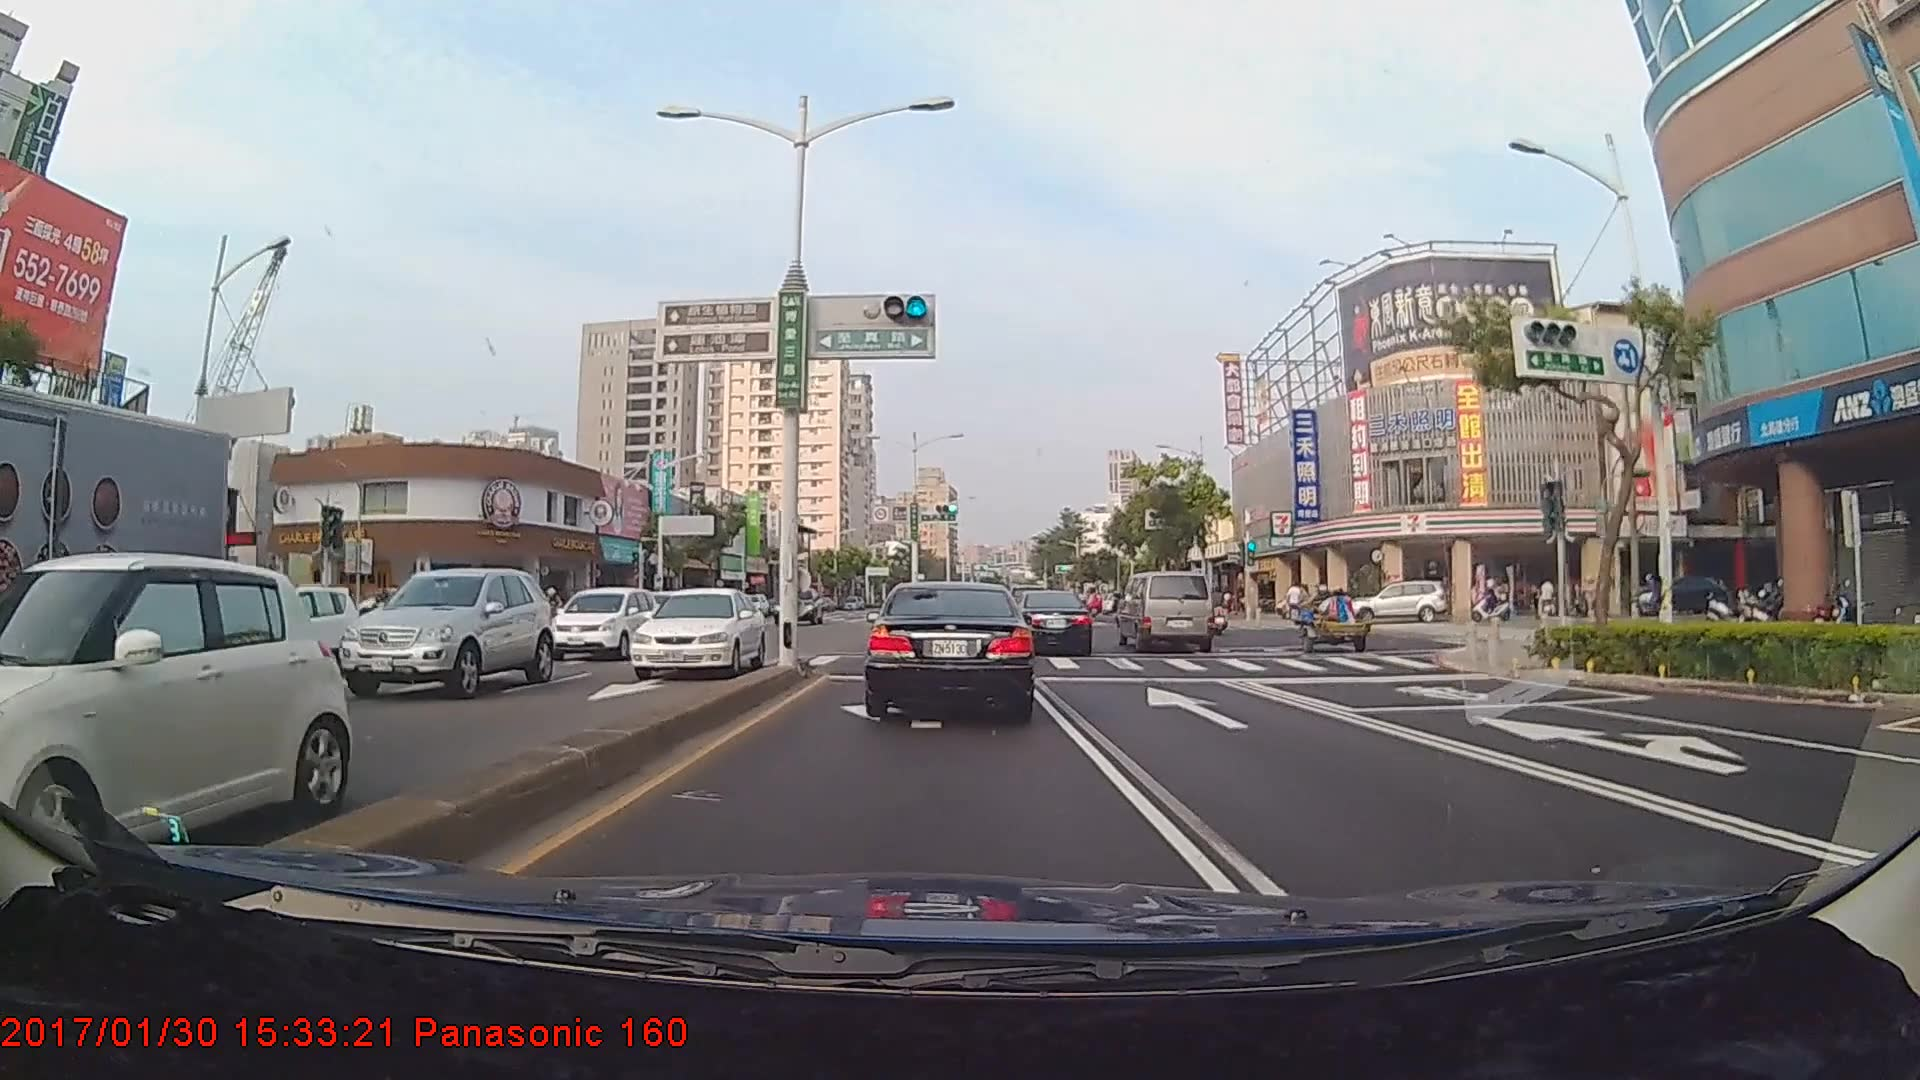vehicle: (0, 549, 319, 872), (0, 389, 236, 746), (332, 560, 549, 698), (866, 578, 1033, 719), (618, 582, 771, 680), (241, 579, 360, 673), (535, 583, 655, 661), (1120, 568, 1215, 653), (1011, 589, 1095, 655), (1357, 580, 1451, 625)
